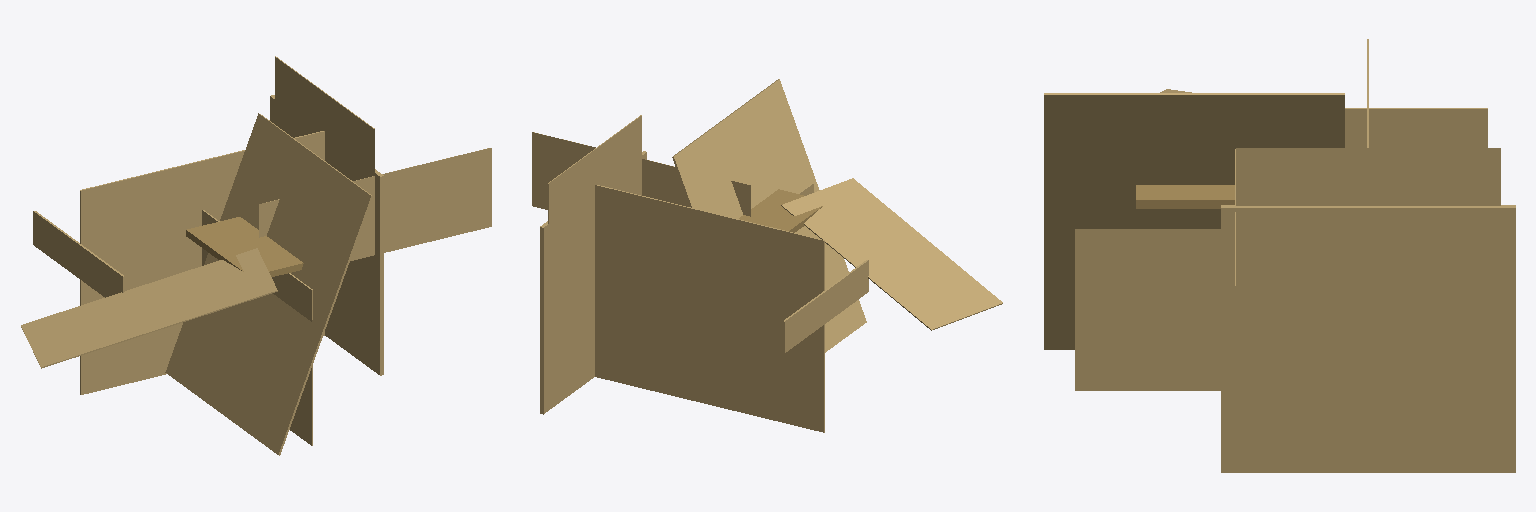
The robot description file, URDF, robot "evolved_design":
<?xml version="1.0" ?>
<robot name="evolved_design">
  <link name="base_link">
    <inertial>
      <mass value="0.001"/>
      <origin xyz="0 0 0" rpy="0 0 0"/>
      <inertia ixx="0.000001" ixy="0" ixz="0" iyy="0.000001" iyz="0" izz="0.000001"/>
    </inertial>
  </link>
  <link name="link_comp_0">
    <inertial>
      <mass value="0.838824"/>
      <origin xyz="0 0 0" rpy="0 0 0"/>
      <inertia ixx="0.039485466" ixy="0" ixz="0" iyy="0.015063259" iyz="0" izz="0.024425033"/>
    </inertial>
    <visual>
      <origin xyz="0 0 0" rpy="0 0 0"/>
      <geometry>
        <box size="0.004496 0.591099 0.464189"/>
      </geometry>
      <material name="link_comp_0_material">
        <color rgba="0.8 0.7 0.5 1"/>
      </material>
    </visual>
    <collision>
      <origin xyz="0 0 0" rpy="0 0 0"/>
      <geometry>
        <box size="0.004496 0.591099 0.464189"/>
      </geometry>
    </collision>
  </link>
  <joint name="base_link_to_link_comp_0" type="fixed">
    <parent link="base_link"/>
    <child link="link_comp_0"/>
    <origin xyz="0.002248 0.295550 0.232094" rpy="0.000000 0.000000 0.000000"/>
  </joint>
  <link name="link_comp_1">
    <inertial>
      <mass value="1.500321"/>
      <origin xyz="0 0 0" rpy="0 0 0"/>
      <inertia ixx="0.046464279" ixy="0" ixz="0" iyy="0.119057487" iyz="0" izz="0.072598849"/>
    </inertial>
    <visual>
      <origin xyz="0 0 0" rpy="0 0 0"/>
      <geometry>
        <box size="0.762000 0.004750 0.609600"/>
      </geometry>
      <material name="link_comp_1_material">
        <color rgba="0.8 0.7 0.5 1"/>
      </material>
    </visual>
    <collision>
      <origin xyz="0 0 0" rpy="0 0 0"/>
      <geometry>
        <box size="0.762000 0.004750 0.609600"/>
      </geometry>
    </collision>
  </link>
  <joint name="base_link_to_link_comp_1" type="fixed">
    <parent link="base_link"/>
    <child link="link_comp_1"/>
    <origin xyz="0.002716 0.593974 0.304800" rpy="0.000000 0.000000 0.000000"/>
  </joint>
  <link name="link_comp_2">
    <inertial>
      <mass value="0.212601"/>
      <origin xyz="0 0 0" rpy="0 0 0"/>
      <inertia ixx="0.004343697" ixy="0" ixz="0" iyy="0.000183588" iyz="0" izz="0.004161537"/>
    </inertial>
    <visual>
      <origin xyz="0 0 0" rpy="0 0 0"/>
      <geometry>
        <box size="0.006350 0.484616 0.101598"/>
      </geometry>
      <material name="link_comp_2_material">
        <color rgba="0.8 0.7 0.5 1"/>
      </material>
    </visual>
    <collision>
      <origin xyz="0 0 0" rpy="0 0 0"/>
      <geometry>
        <box size="0.006350 0.484616 0.101598"/>
      </geometry>
    </collision>
  </link>
  <joint name="base_link_to_link_comp_2" type="fixed">
    <parent link="base_link"/>
    <child link="link_comp_2"/>
    <origin xyz="-0.381959 0.594301 0.401203" rpy="0.000000 0.000000 0.000000"/>
  </joint>
  <link name="link_comp_3">
    <inertial>
      <mass value="0.667781"/>
      <origin xyz="0 0 0" rpy="0 0 0"/>
      <inertia ixx="0.036755775" ixy="0" ixz="0" iyy="0.020680131" iyz="0" izz="0.016076644"/>
    </inertial>
    <visual>
      <origin xyz="0 0 0" rpy="0 0 0"/>
      <geometry>
        <box size="0.002997 0.537483 0.609600"/>
      </geometry>
      <material name="link_comp_3_material">
        <color rgba="0.8 0.7 0.5 1"/>
      </material>
    </visual>
    <collision>
      <origin xyz="0 0 0" rpy="0 0 0"/>
      <geometry>
        <box size="0.002997 0.537483 0.609600"/>
      </geometry>
    </collision>
  </link>
  <joint name="base_link_to_link_comp_3" type="fixed">
    <parent link="base_link"/>
    <child link="link_comp_3"/>
    <origin xyz="0.385714 0.594703 0.416882" rpy="0.000000 0.000000 0.000000"/>
  </joint>
  <link name="link_comp_4">
    <inertial>
      <mass value="0.434203"/>
      <origin xyz="0 0 0" rpy="0 0 0"/>
      <inertia ixx="0.002761186" ixy="0" ixz="0" iyy="0.016445115" iyz="0" izz="0.019205450"/>
    </inertial>
    <visual>
      <origin xyz="0 0 0" rpy="0 0 0"/>
      <geometry>
        <box size="0.674151 0.276222 0.003429"/>
      </geometry>
      <material name="link_comp_4_material">
        <color rgba="0.8 0.7 0.5 1"/>
      </material>
    </visual>
    <collision>
      <origin xyz="0 0 0" rpy="0 0 0"/>
      <geometry>
        <box size="0.674151 0.276222 0.003429"/>
      </geometry>
    </collision>
  </link>
  <joint name="base_link_to_link_comp_4" type="fixed">
    <parent link="base_link"/>
    <child link="link_comp_4"/>
    <origin xyz="-0.382815 0.213382 0.413080" rpy="0.000000 -0.253033 -0.321895"/>
  </joint>
  <link name="link_comp_5">
    <inertial>
      <mass value="0.116365"/>
      <origin xyz="0 0 0" rpy="0 0 0"/>
      <inertia ixx="0.000540517" ixy="0" ixz="0" iyy="0.005635044" iyz="0" izz="0.005094546"/>
    </inertial>
    <visual>
      <origin xyz="0 0 0" rpy="0 0 0"/>
      <geometry>
        <box size="0.724823 0.001000 0.236092"/>
      </geometry>
      <material name="link_comp_5_material">
        <color rgba="0.8 0.7 0.5 1"/>
      </material>
    </visual>
    <collision>
      <origin xyz="0 0 0" rpy="0 0 0"/>
      <geometry>
        <box size="0.724823 0.001000 0.236092"/>
      </geometry>
    </collision>
  </link>
  <joint name="base_link_to_link_comp_5" type="fixed">
    <parent link="base_link"/>
    <child link="link_comp_5"/>
    <origin xyz="0.385658 0.325080 0.465255" rpy="0.000000 0.000000 0.000000"/>
  </joint>
  <link name="link_comp_6">
    <inertial>
      <mass value="3.057755"/>
      <origin xyz="0 0 0" rpy="0 0 0"/>
      <inertia ixx="0.180447841" ixy="0" ixz="0" iyy="0.089643326" iyz="0" izz="0.090886713"/>
    </inertial>
    <visual>
      <origin xyz="0 0 0" rpy="0 0 0"/>
      <geometry>
        <box size="0.012700 0.597092 0.592992"/>
      </geometry>
      <material name="link_comp_6_material">
        <color rgba="0.8 0.7 0.5 1"/>
      </material>
    </visual>
    <collision>
      <origin xyz="0 0 0" rpy="0 0 0"/>
      <geometry>
        <box size="0.012700 0.597092 0.592992"/>
      </geometry>
    </collision>
  </link>
  <joint name="base_link_to_link_comp_6" type="fixed">
    <parent link="base_link"/>
    <child link="link_comp_6"/>
    <origin xyz="0.390566 0.593625 0.296496" rpy="0.000000 0.000000 0.000000"/>
  </joint>
  <link name="link_comp_7">
    <inertial>
      <mass value="2.005777"/>
      <origin xyz="0 0 0" rpy="0 0 0"/>
      <inertia ixx="0.159167763" ixy="0" ixz="0" iyy="0.097060254" iyz="0" izz="0.062120989"/>
    </inertial>
    <visual>
      <origin xyz="0 0 0" rpy="0 0 0"/>
      <geometry>
        <box size="0.006350 0.609600 0.762000"/>
      </geometry>
      <material name="link_comp_7_material">
        <color rgba="0.8 0.7 0.5 1"/>
      </material>
    </visual>
    <collision>
      <origin xyz="0 0 0" rpy="0 0 0"/>
      <geometry>
        <box size="0.006350 0.609600 0.762000"/>
      </geometry>
    </collision>
  </link>
  <joint name="base_link_to_link_comp_7" type="fixed">
    <parent link="base_link"/>
    <child link="link_comp_7"/>
    <origin xyz="0.008171 0.242731 0.381000" rpy="0.000000 0.390684 0.000000"/>
  </joint>
  <link name="link_comp_8">
    <inertial>
      <mass value="1.105250"/>
      <origin xyz="0 0 0" rpy="0 0 0"/>
      <inertia ixx="0.010932444" ixy="0" ixz="0" iyy="0.005699530" iyz="0" izz="0.016565124"/>
    </inertial>
    <visual>
      <origin xyz="0 0 0" rpy="0 0 0"/>
      <geometry>
        <box size="0.248029 0.343997 0.019050"/>
      </geometry>
      <material name="link_comp_8_material">
        <color rgba="0.7 0.6 0.4 1"/>
      </material>
    </visual>
    <collision>
      <origin xyz="0 0 0" rpy="0 0 0"/>
      <geometry>
        <box size="0.248029 0.343997 0.019050"/>
      </geometry>
    </collision>
  </link>
  <joint name="base_link_to_link_comp_8" type="fixed">
    <parent link="base_link"/>
    <child link="link_comp_8"/>
    <origin xyz="0.002248 0.295550 0.474214" rpy="0.000000 0.000000 0.000000"/>
  </joint>
</robot>

--- What the picture shows (computed from the rendered views, not written in the file) ---
3 views of the same robot in one strip: view 1: azimuth 30°, elevation 25°; view 2: azimuth 150°, elevation 25°; view 3: azimuth 270°, elevation 25° (orthographic).
Model evolved_design with 10 links and 9 joints (9 fixed), rooted at base_link, posed every joint at zero.
Links seen in each view (by area): view 1: link_comp_7, link_comp_1, link_comp_4, link_comp_5, link_comp_3, link_comp_6, link_comp_8, link_comp_2, link_comp_0; view 2: link_comp_1, link_comp_7, link_comp_4, link_comp_3, link_comp_5, link_comp_6, link_comp_2, link_comp_8; view 3: link_comp_6, link_comp_7, link_comp_0, link_comp_3, link_comp_2, link_comp_8.
Link boxes in pixels (x1,y1,x2,y2): link_comp_7: (165, 113, 372, 455); link_comp_1: (80, 131, 324, 394); link_comp_4: (21, 248, 277, 368); link_comp_5: (259, 148, 491, 260); link_comp_3: (275, 56, 374, 333); link_comp_6: (270, 95, 383, 375); link_comp_8: (186, 217, 303, 276); link_comp_2: (33, 211, 124, 297); link_comp_0: (202, 210, 312, 445); link_comp_1: (595, 185, 824, 432); link_comp_7: (672, 79, 866, 352); link_comp_4: (781, 178, 1002, 330); link_comp_3: (548, 115, 641, 374); link_comp_5: (532, 132, 750, 216); link_comp_6: (540, 151, 646, 414); link_comp_2: (783, 260, 868, 353); link_comp_8: (739, 189, 822, 232); link_comp_6: (1221, 205, 1515, 472); link_comp_7: (1044, 93, 1344, 349); link_comp_0: (1075, 229, 1220, 390); link_comp_3: (1236, 148, 1500, 205); link_comp_2: (1345, 108, 1487, 147); link_comp_8: (1136, 185, 1234, 208).
Size in the robot's own frame: 1.48 by 0.9542 by 0.7345 metres.
Geometry: primitives only (box / cylinder / sphere), no mesh files.